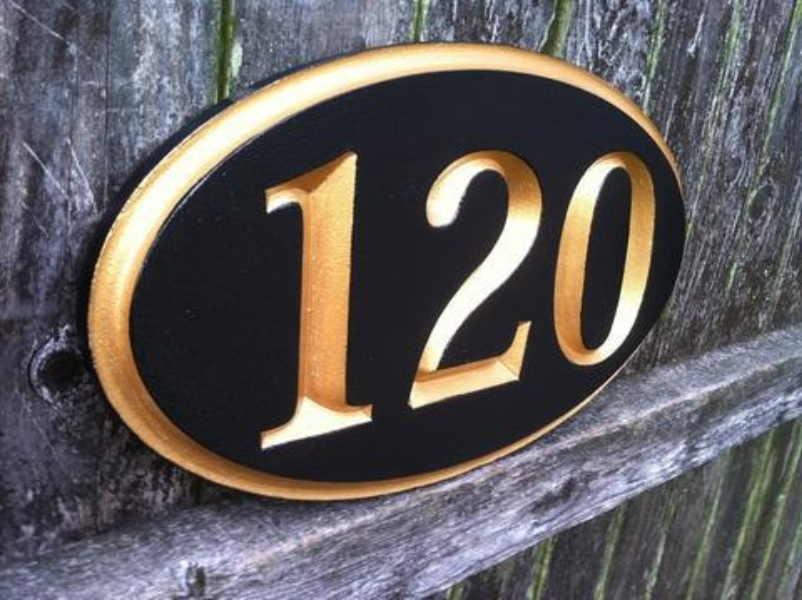text: (273, 134, 288, 452), (289, 134, 304, 452), (305, 134, 320, 452), (321, 134, 336, 452), (337, 134, 352, 452), (353, 134, 368, 452), (369, 134, 384, 452), (385, 134, 400, 452), (401, 134, 416, 452), (417, 134, 432, 452), (433, 134, 448, 452), (449, 134, 464, 452), (465, 134, 480, 452), (481, 134, 496, 452), (497, 134, 512, 452), (513, 134, 528, 452), (529, 134, 544, 452), (545, 134, 560, 452), (561, 134, 576, 452), (577, 134, 592, 452), (593, 134, 608, 452), (609, 134, 624, 452), (625, 134, 640, 452), (641, 134, 656, 452), (261, 134, 272, 452), (657, 134, 664, 452)
